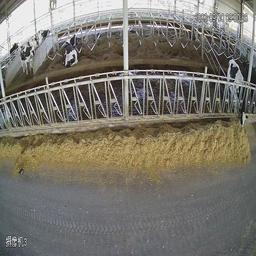cow: (226, 58, 248, 131), (17, 44, 37, 76), (62, 34, 80, 68), (27, 28, 51, 50)
